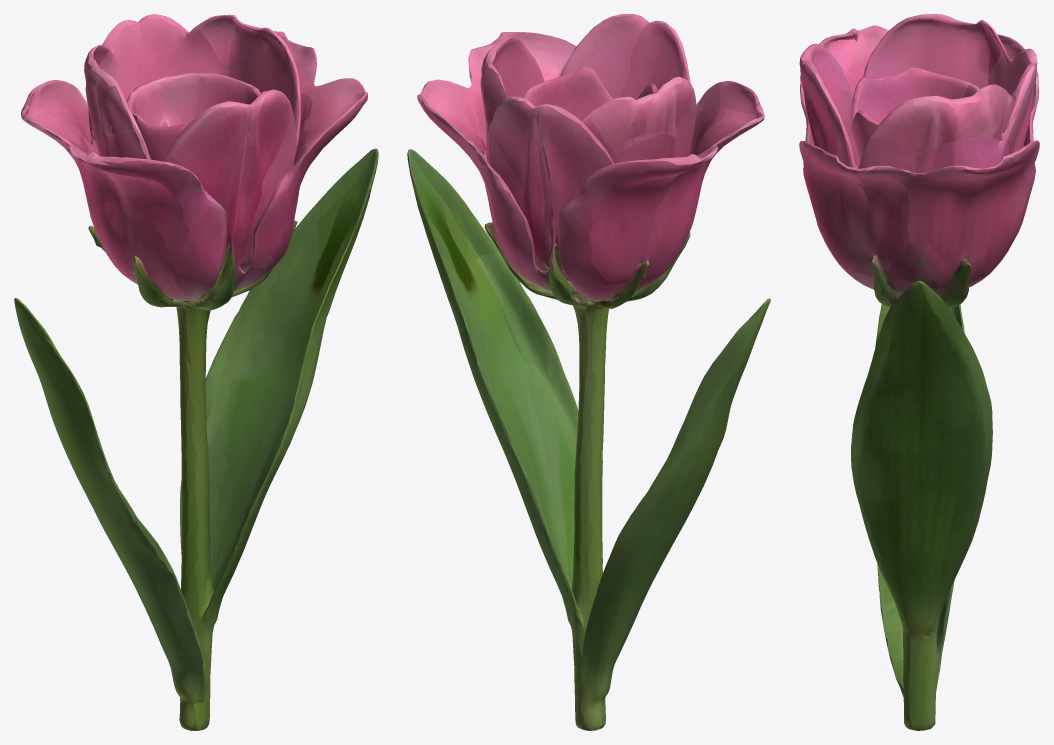
The model's file is tulip-pink.glb.
3 renders of one model, left to right at view 1: azimuth 30°, elevation 25°; view 2: azimuth 150°, elevation 25°; view 3: azimuth 270°, elevation 25°, orthographic.
Parts seen in each view (by area): view 1: geometry_0; view 2: geometry_0; view 3: geometry_0.
Boxes of the visible parts, x1=… form: geometry_0: x1=14, y1=14, x2=378, y2=730; geometry_0: x1=407, y1=14, x2=770, y2=730; geometry_0: x1=799, y1=14, x2=1039, y2=730.
Bounding box in the file's own units: 0.254 × 0.45 × 0.1461.
Materials: 1 (1 with a texture image).
